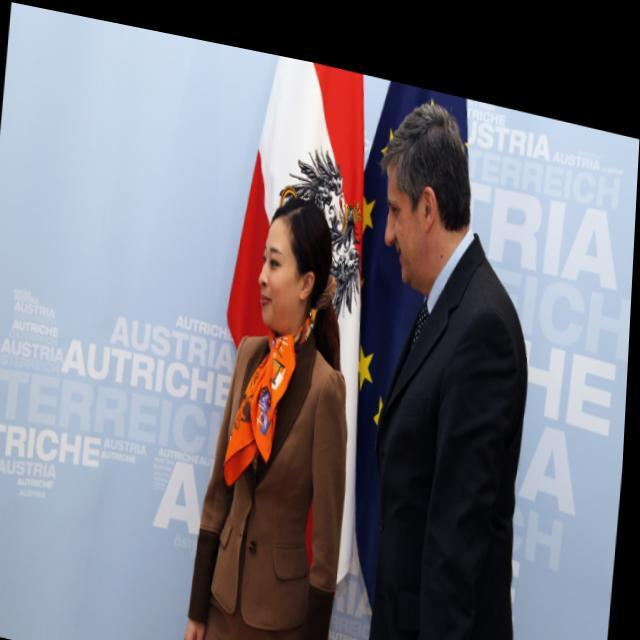Nonhelmet: (372, 98, 490, 299), (253, 186, 335, 333)
